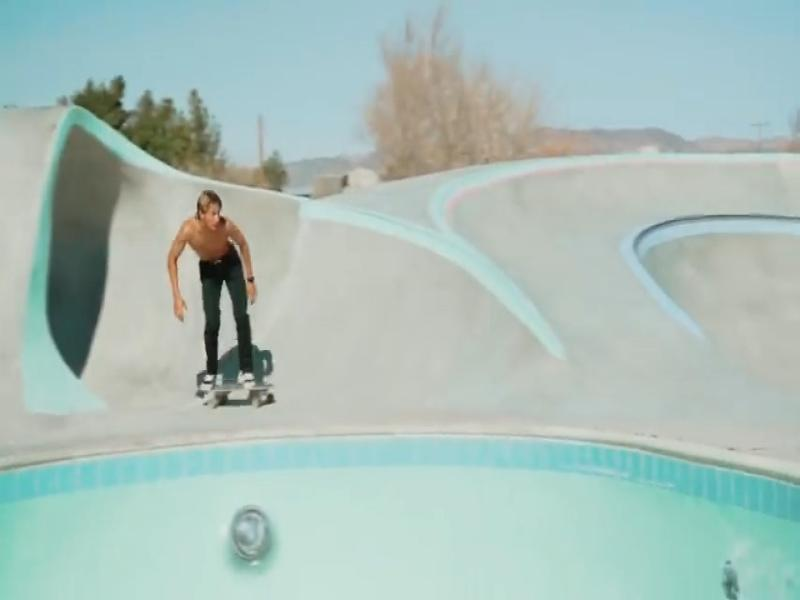person: (167, 190, 256, 389)
skate: (197, 375, 279, 414)
